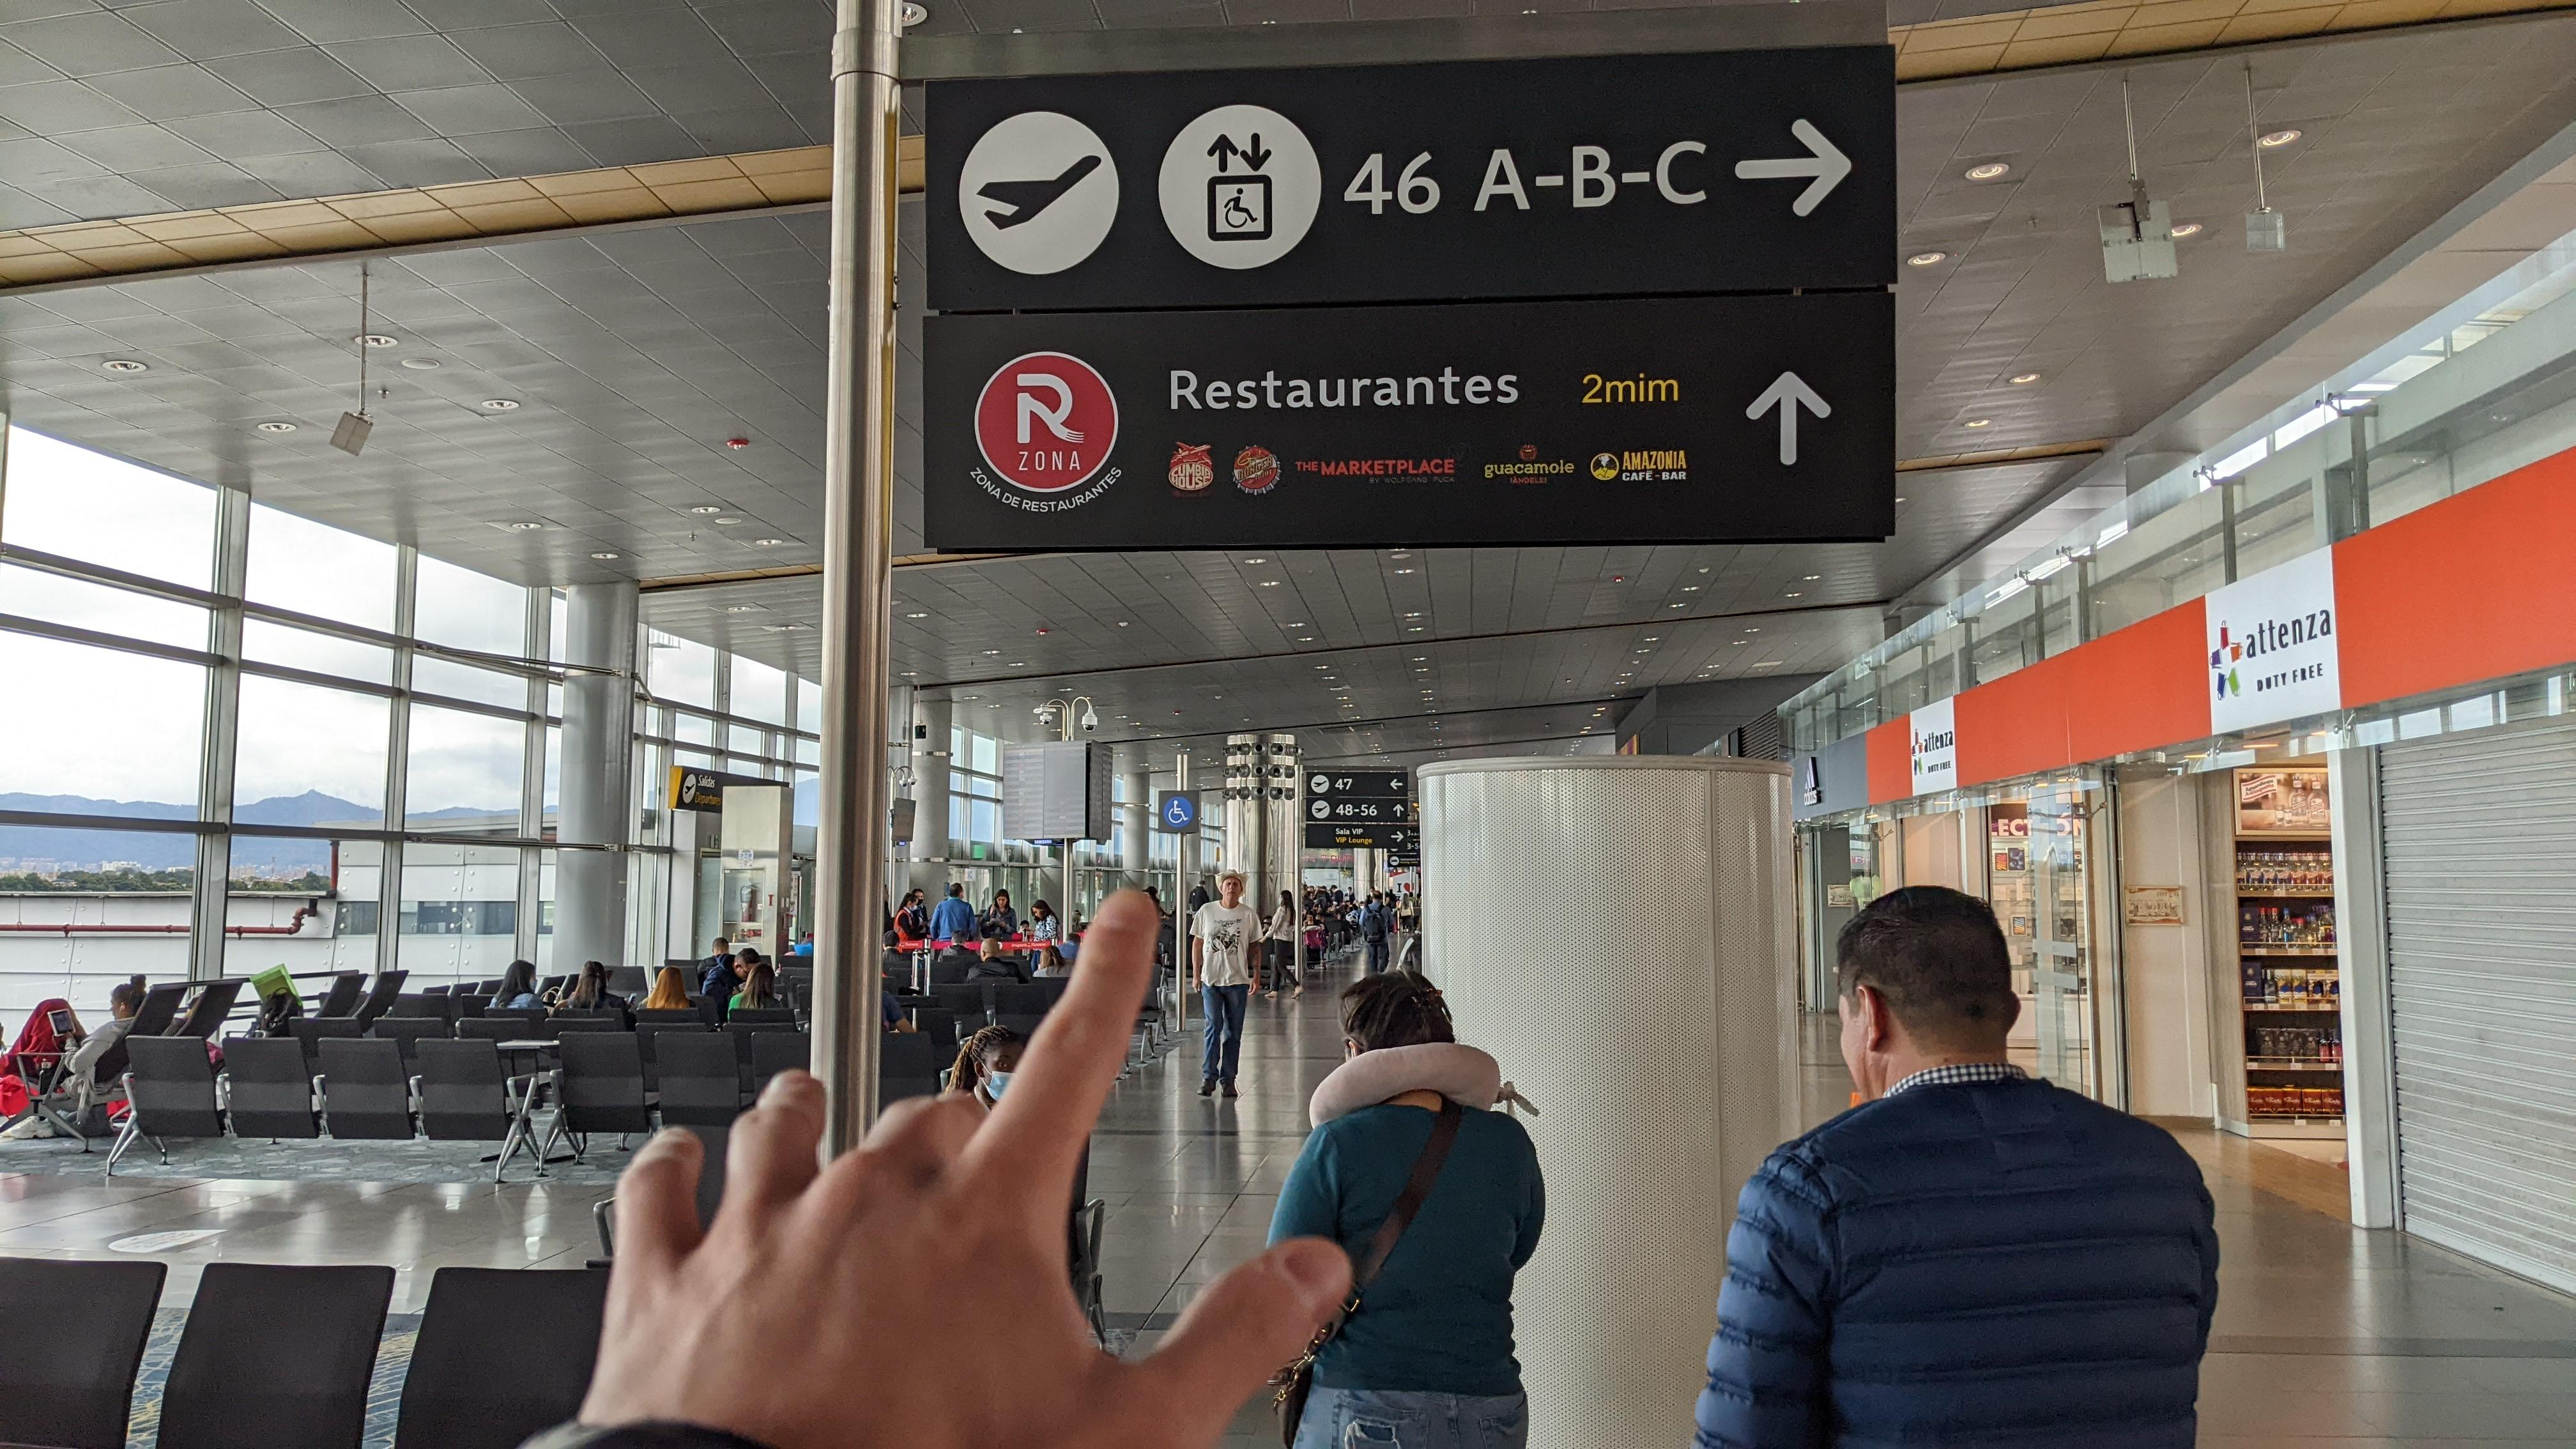airplane symbol: (973, 150, 1104, 235), (1315, 803, 1327, 816), (1313, 778, 1327, 789), (685, 782, 695, 794)
down arrow: (1240, 133, 1272, 173)
handicapped symbol: (1223, 188, 1258, 230), (1168, 800, 1189, 823)
left arrow: (1389, 778, 1403, 791)
right arrow: (1730, 108, 1861, 226), (1389, 830, 1405, 844)
up arrow: (1743, 364, 1835, 474), (1207, 133, 1240, 173), (1392, 803, 1405, 819)
